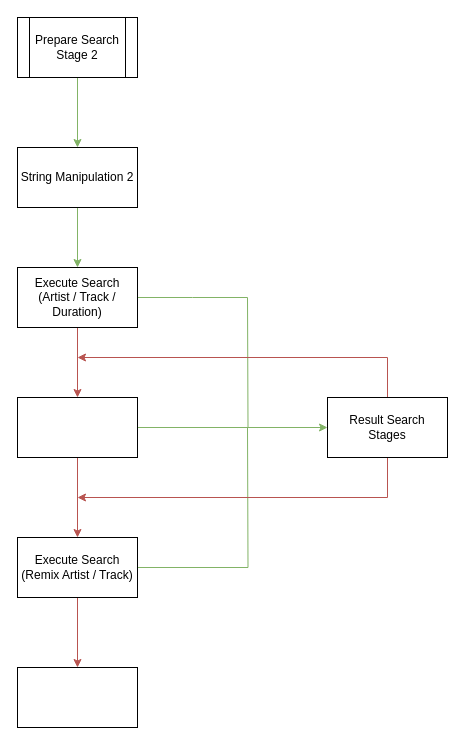
Some shapes in this 465 by 745 pixel diagram are drawn without their labels. The centre of each missing label's shape, as x and y in pixels:
"Execute Search (Artist / Track)" goes at (x=77, y=427).
"Next Song (NotFound)" goes at (x=77, y=697).
